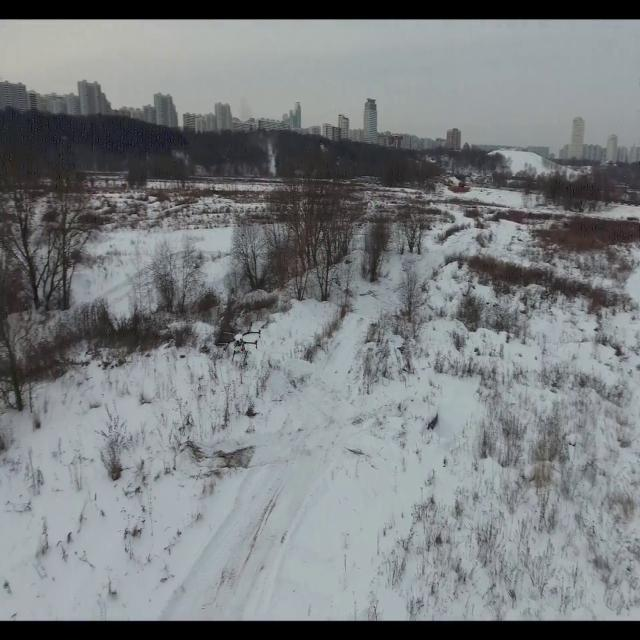Drons: (208, 322, 270, 368)
